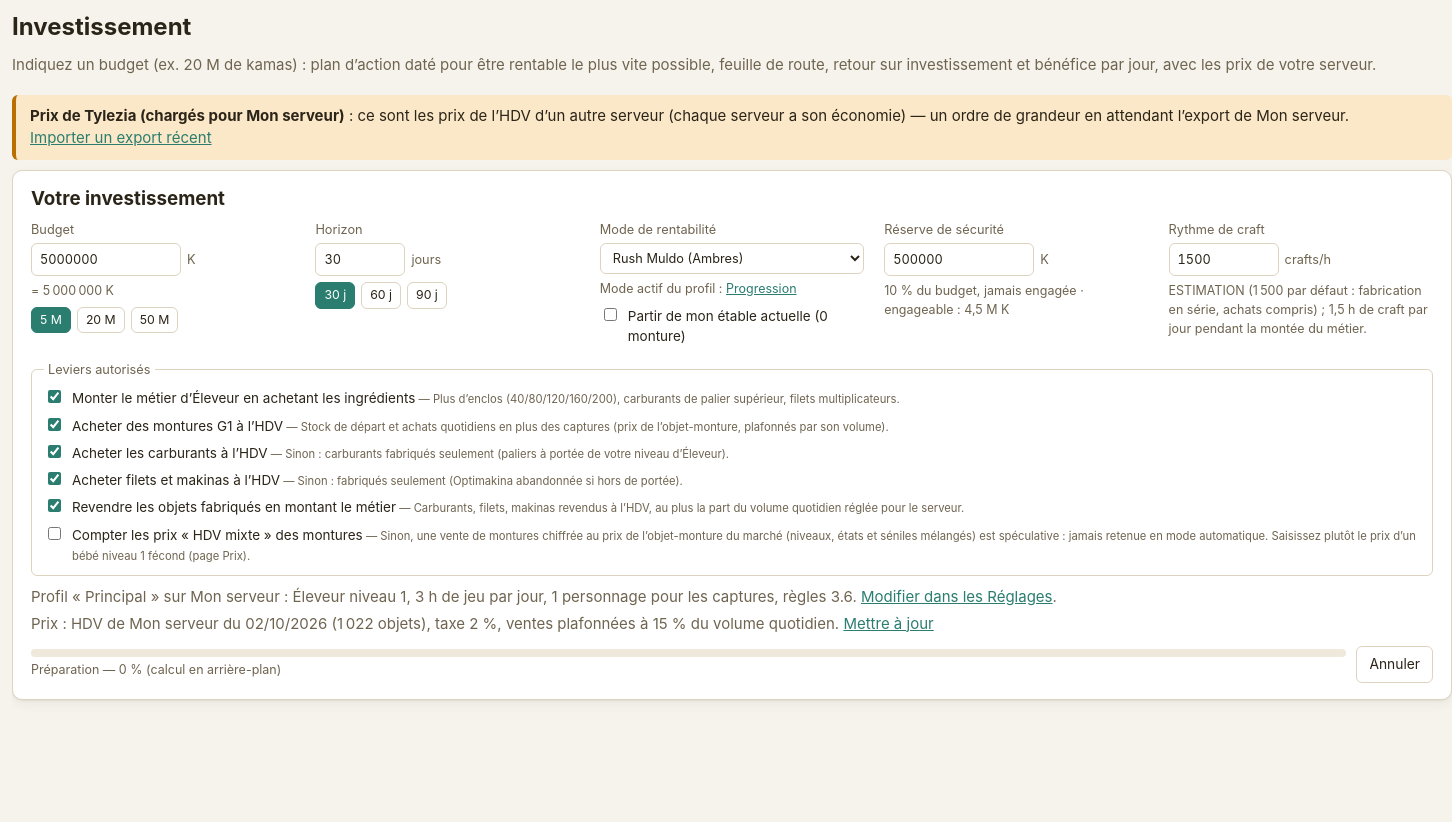
Scenario: Investissement › reprend mode, budget et horizon de l’adresse ; garde les préférences du profil
Expected: the number field labelled "Budget K" holds "5000000", x1=31 y1=243 x2=181 y2=276
Expected: the number field labelled "Horizon jours" holds "30", x1=315 y1=243 x2=405 y2=276
# Préréglage : 50 M → réserve 10 %, enregistré pour le profil.
Click the button "50 M" at (154, 320), box x1=131 y1=307 x2=178 y2=333
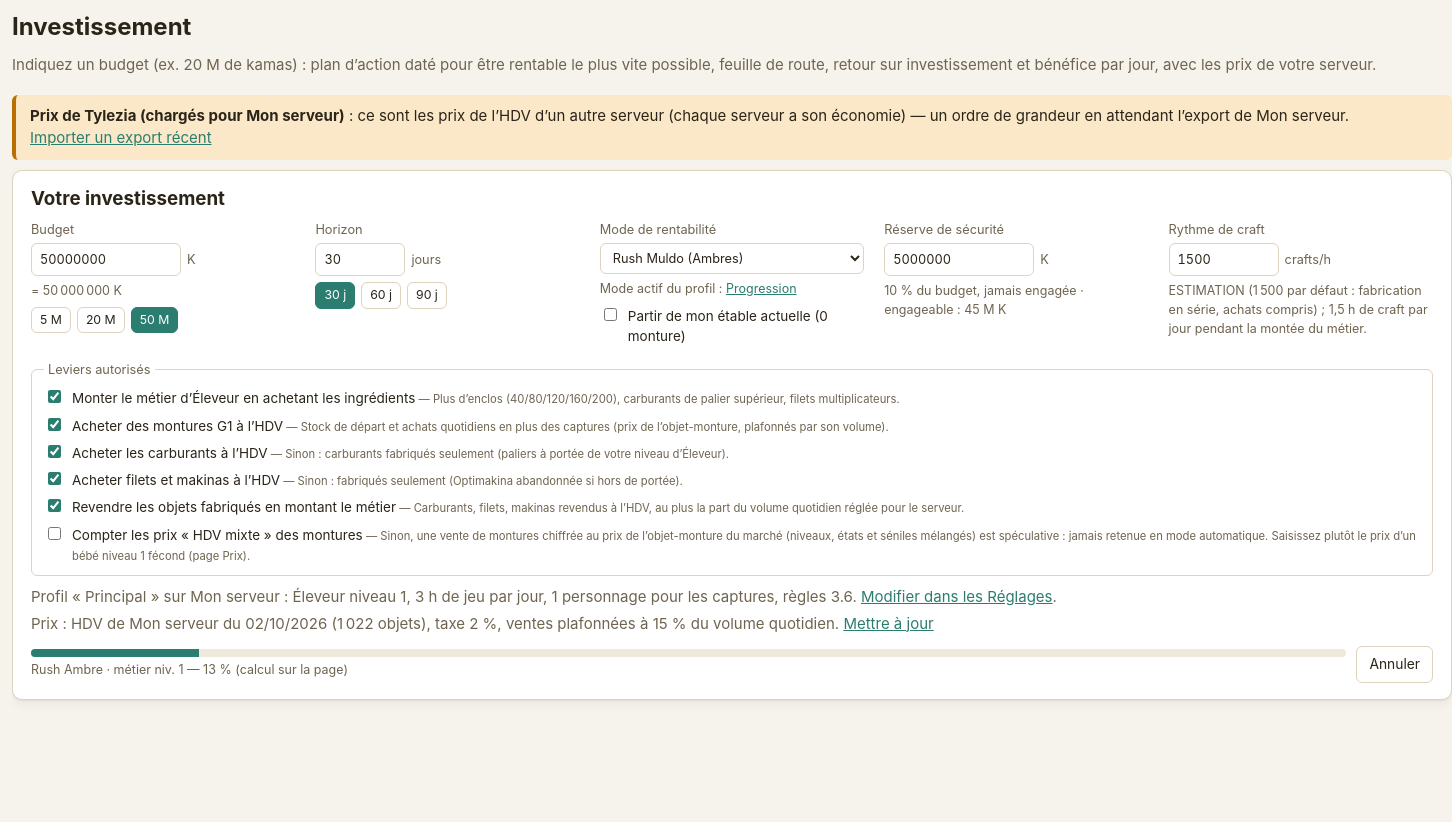
Expected: the number field labelled "Budget K" holds "50000000", x1=31 y1=243 x2=181 y2=276
